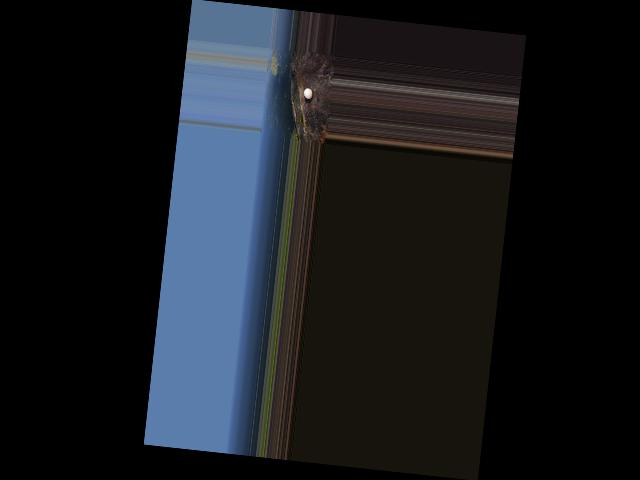egg: (303, 87, 313, 99)
